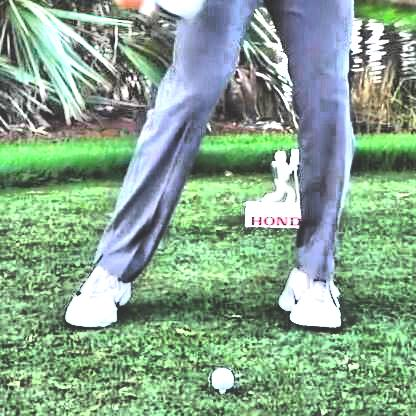golfball: (206, 366, 233, 390)
